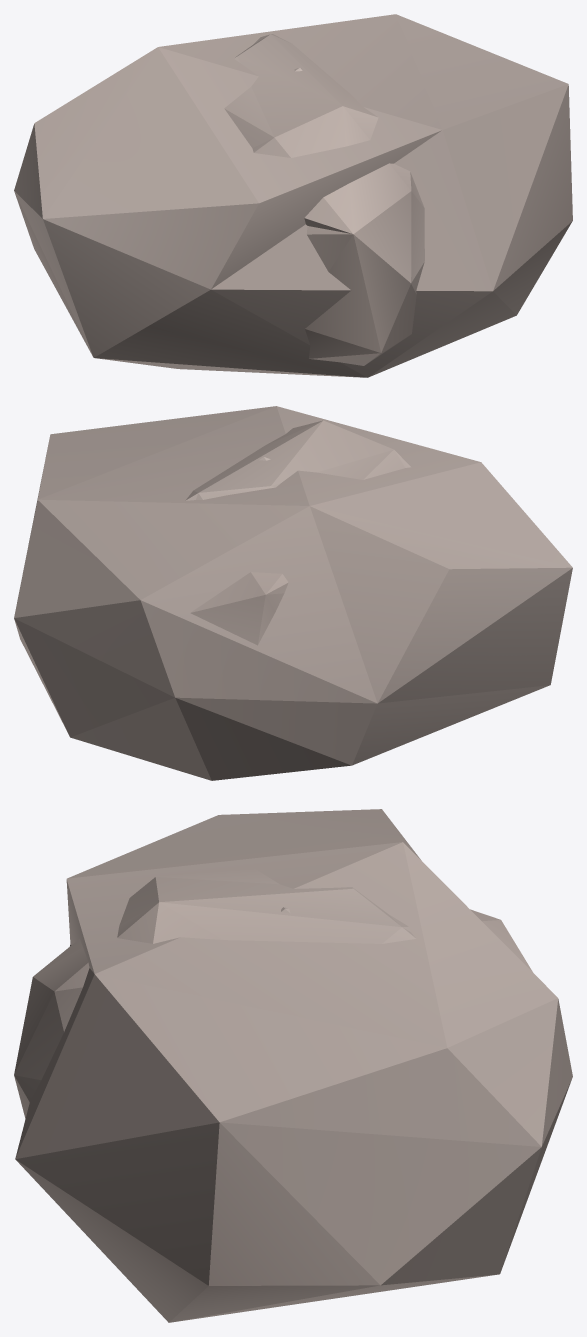
The model's file is Asteroids better.fbx.
The picture shows the model from 3 angles, top to bottom: view 1: azimuth 30°, elevation 25°; view 2: azimuth 150°, elevation 25°; view 3: azimuth 270°, elevation 25°; orthographic projection. The views are drawn at different scales.
Visible parts, largest first — view 1: thicc, wide; view 2: thicc, wide; view 3: thicc, wide.
Part boxes in pixels (<box>): thicc: <box>14,14,572,377</box>; wide: <box>224,34,424,365</box>; thicc: <box>14,406,572,780</box>; wide: <box>185,420,410,645</box>; thicc: <box>15,809,572,1322</box>; wide: <box>14,869,532,1118</box>.
Size of the model in its own units: 198 by 102 by 148.
1 material, 1 textured.
